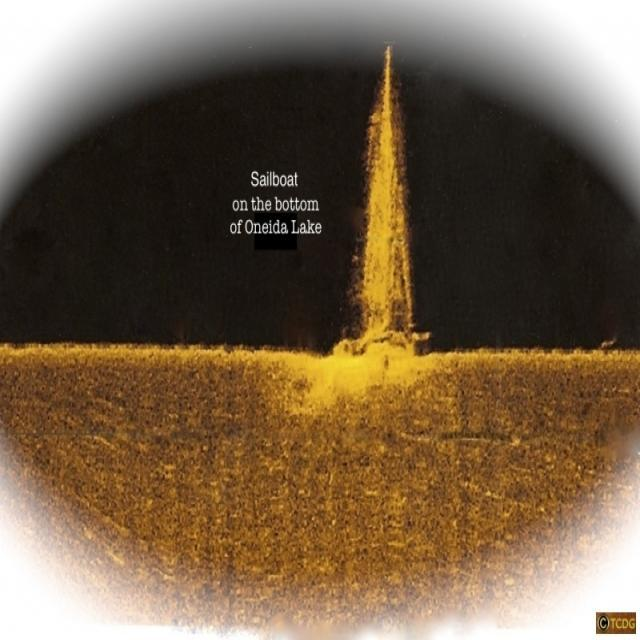shipwreck: (350, 39, 436, 372)
